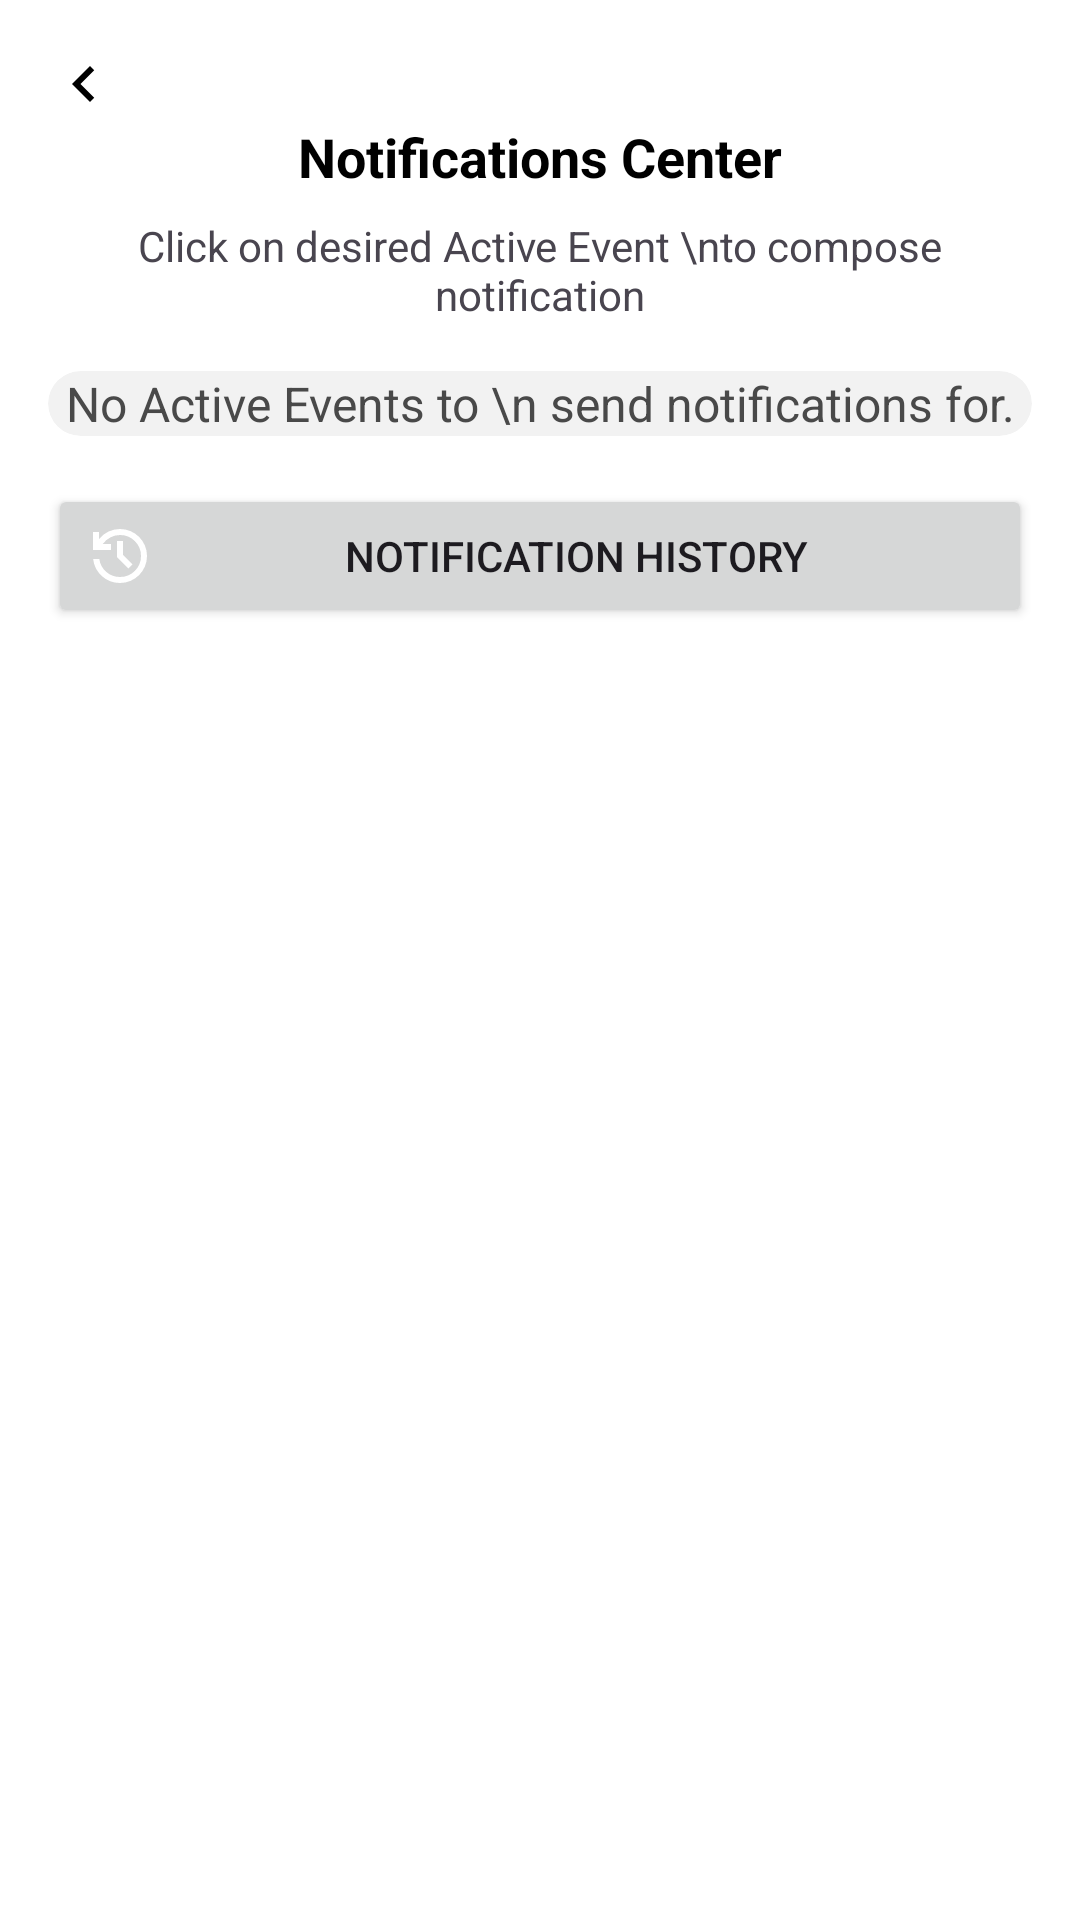

Named icons in this screenshot (1080px x 1920px) and their bounding boxes, (x1, y1, x2, y2):
arrow left: (72, 66, 94, 102)
